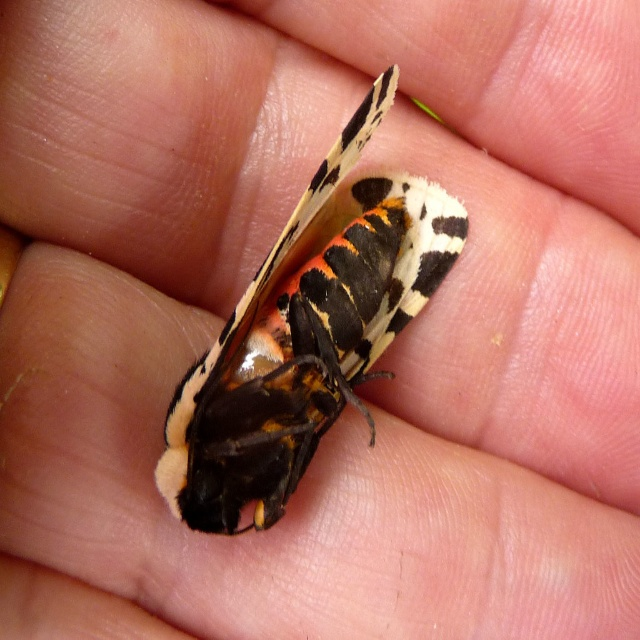Butterfly: (170, 95, 454, 530)
